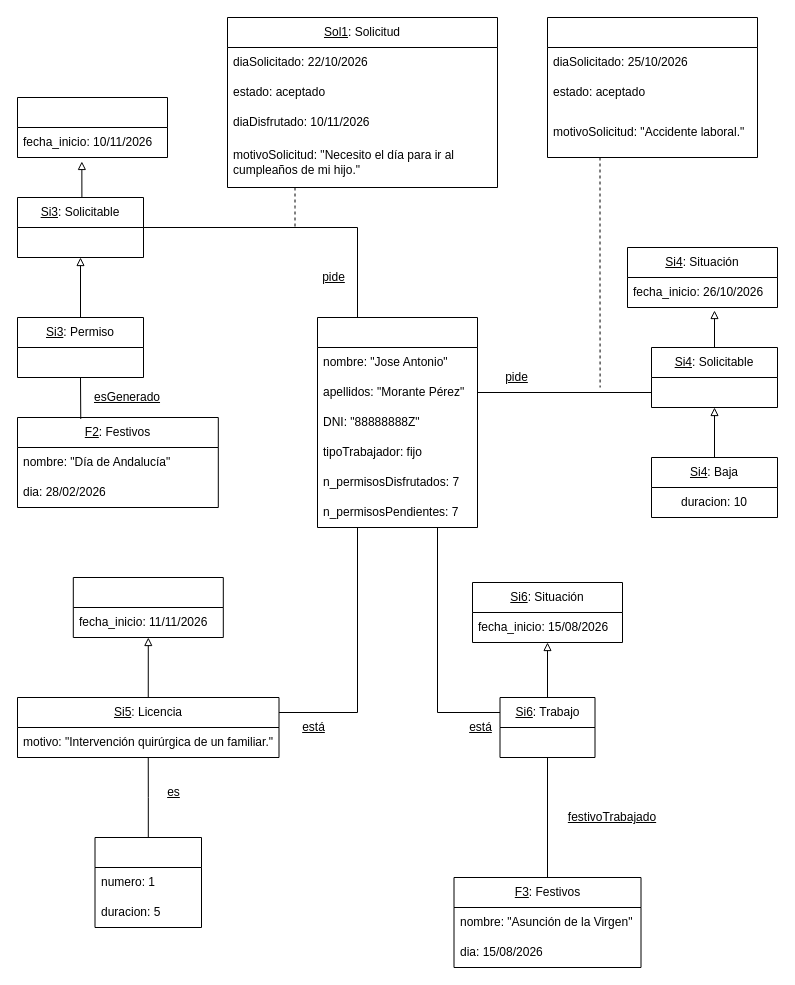
Some shapes in this 795 by 985 pixel diagram are drawn without their labels. The shapes that lost their labels are listed below. From the top down, each one's box as (x1, y1, x2, y2) in pixels, then its label:
(546, 16, 758, 158): Sol2 : Solicitud
(16, 96, 168, 158): Si3 : Situación
(316, 316, 478, 528): T5 : Trabajador
(72, 576, 223, 638): Si5 : Situación
(94, 836, 202, 928): Gr1 : Grado
